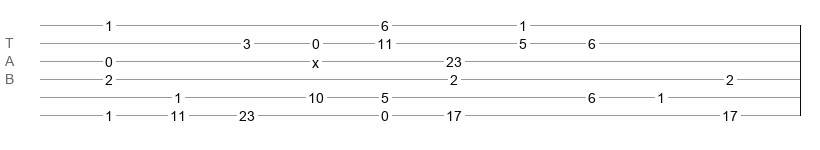0: (105, 54, 113, 64), (312, 36, 320, 46), (381, 108, 389, 118)
1: (105, 108, 113, 118), (105, 18, 113, 28), (174, 90, 182, 100), (519, 18, 527, 28), (657, 90, 665, 100)
10: (308, 90, 324, 100)
11: (170, 108, 186, 118), (377, 36, 393, 46)
17: (446, 108, 462, 118), (722, 108, 738, 118)
2: (105, 72, 113, 82), (450, 72, 458, 82), (726, 72, 734, 82)
23: (239, 108, 255, 118), (446, 54, 462, 64)
3: (243, 36, 251, 46)
5: (381, 90, 389, 100), (519, 36, 527, 46)
6: (381, 18, 389, 28), (588, 90, 596, 100), (588, 36, 596, 46)
x: (312, 55, 319, 63)
